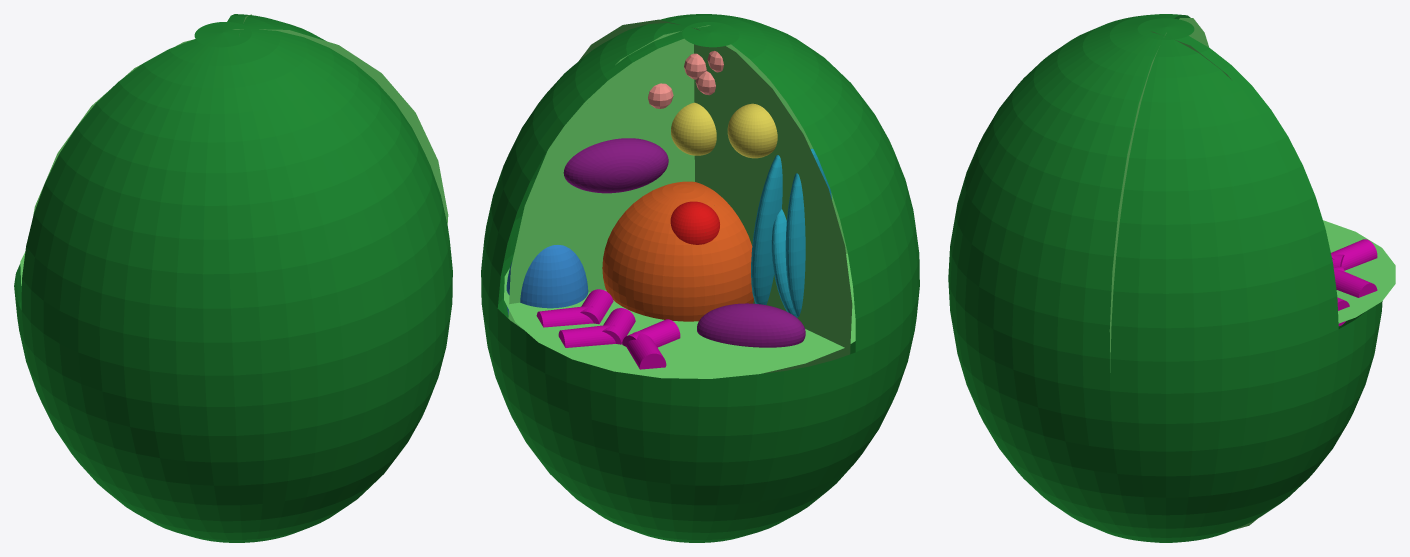
The picture shows the model from 3 angles, left to right: view 1: azimuth 30°, elevation 25°; view 2: azimuth 150°, elevation 25°; view 3: azimuth 270°, elevation 25°; orthographic projection.
Visible parts, largest first — view 1: cell body, inside2; view 2: cell body, inside3, inside2, nucleus, inside1, sphere (×4), tube (×6), mitochondria2, lysosome (×2), mitochondria1, vacuole1, nucleolus; view 3: cell body, inside1, tube (×2), inside2.
Boxes of the visible parts, box(x1,y1,x2,y2) form: cell body: box(14, 14, 452, 542); inside2: box(33, 29, 448, 224); cell body: box(481, 14, 919, 542); inside3: box(508, 25, 847, 514); inside2: box(578, 19, 852, 373); nucleus: box(602, 181, 753, 321); inside1: box(504, 254, 855, 378); sphere (×4): box(648, 83, 831, 317); tube (×6): box(536, 289, 680, 369); mitochondria2: box(563, 138, 668, 193); lysosome (×2): box(671, 102, 777, 158); mitochondria1: box(697, 303, 805, 347); vacuole1: box(506, 245, 588, 314); nucleolus: box(670, 201, 719, 244); cell body: box(948, 14, 1382, 542); inside1: box(1323, 220, 1395, 323); tube (×2): box(1331, 239, 1377, 297); inside2: box(1109, 18, 1209, 372).
Bounding box in the file's own units: 0.999 × 1.25 × 1.03.
10 materials, 10 textured.
